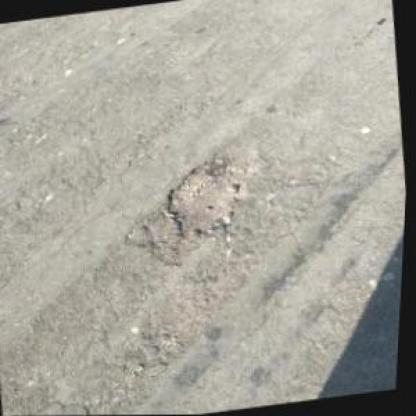pothole: (156, 152, 263, 246)
